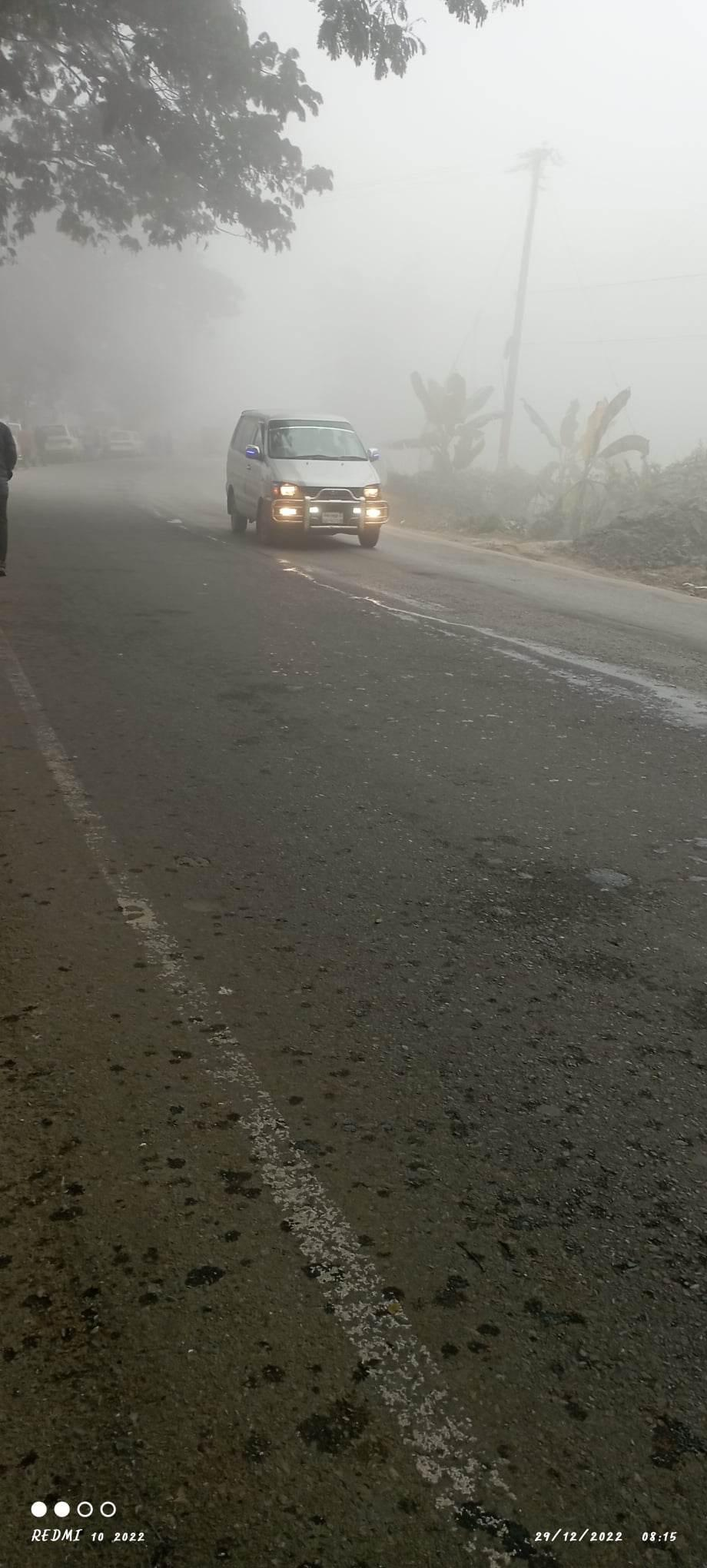Car: (204, 385, 405, 609)
